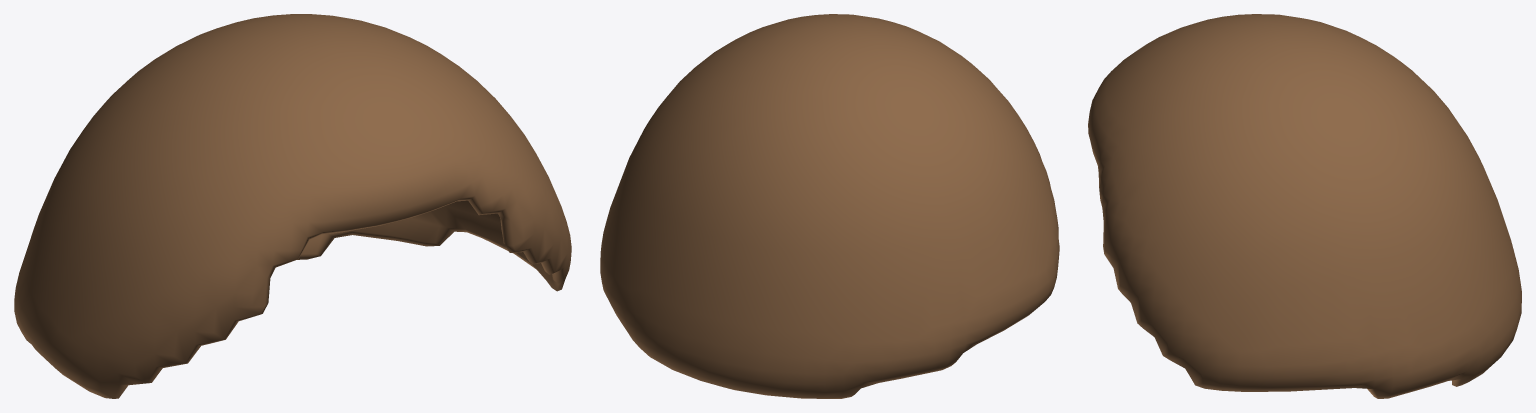
The model's file is m_buzz.glb.
3 views of the same model, side by side, from view 1: azimuth 30°, elevation 25°; view 2: azimuth 150°, elevation 25°; view 3: azimuth 270°, elevation 25° (orthographic). The views are drawn at different scales.
Visible parts, largest first — view 1: m_buzz; view 2: m_buzz; view 3: m_buzz.
Boxes of the visible parts, <box> form: m_buzz: <box>14,14,571,398</box>; m_buzz: <box>600,14,1059,398</box>; m_buzz: <box>1088,14,1521,398</box>.
Bounding box in the file's own units: 2.13 × 1.37 × 1.81.
